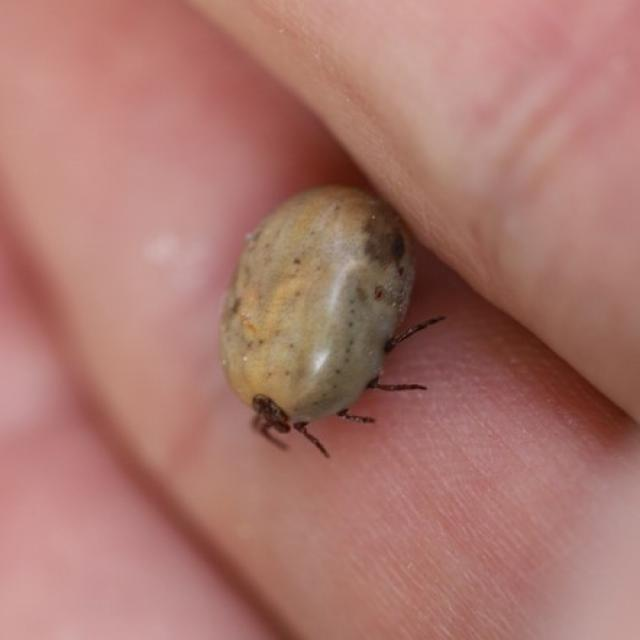Dermacentor Reticulatus-F-Fed: (217, 182, 446, 458)
